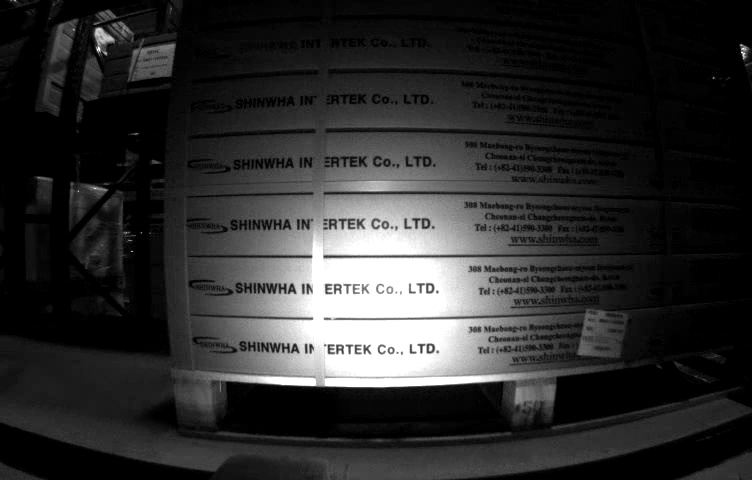True Barcode: (578, 305, 628, 361)
